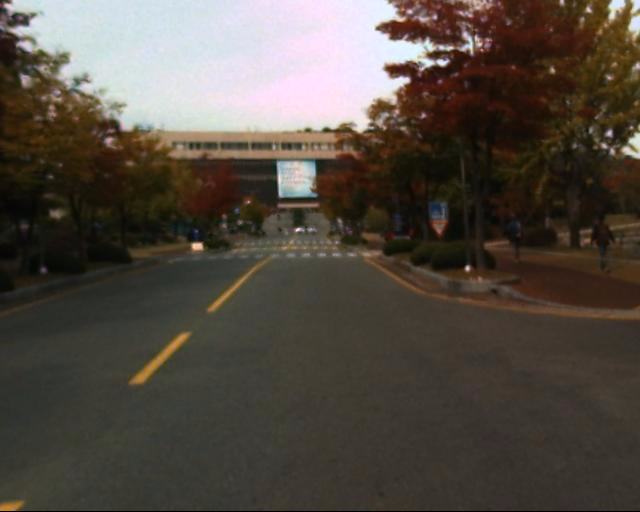person: (595, 210, 615, 274), (507, 217, 528, 266)
